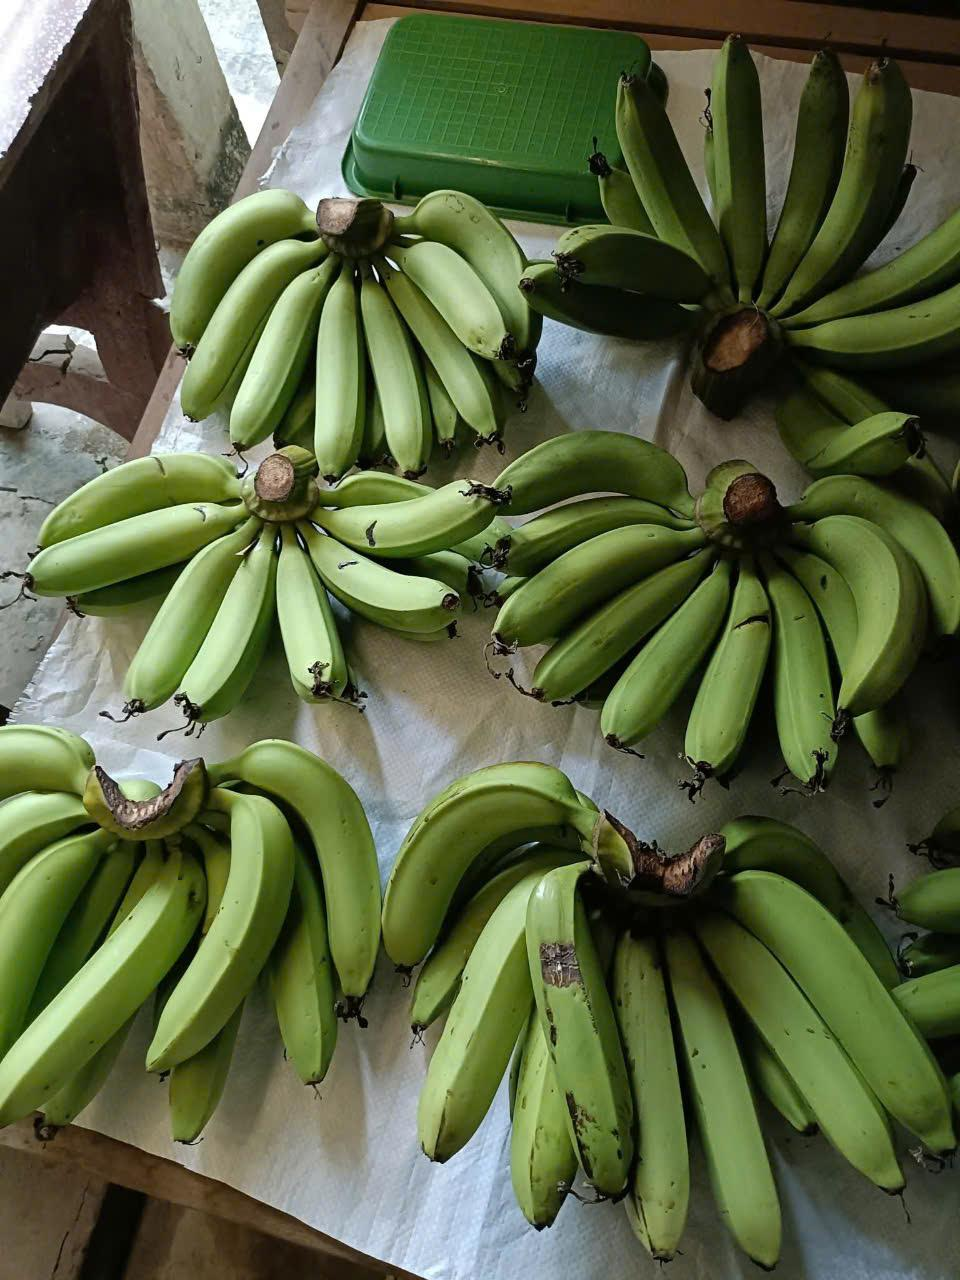banana: (487, 403, 960, 757), (0, 416, 456, 714), (413, 740, 662, 1224), (677, 826, 960, 1235), (151, 180, 547, 449), (146, 737, 362, 1130), (3, 707, 161, 1114)
